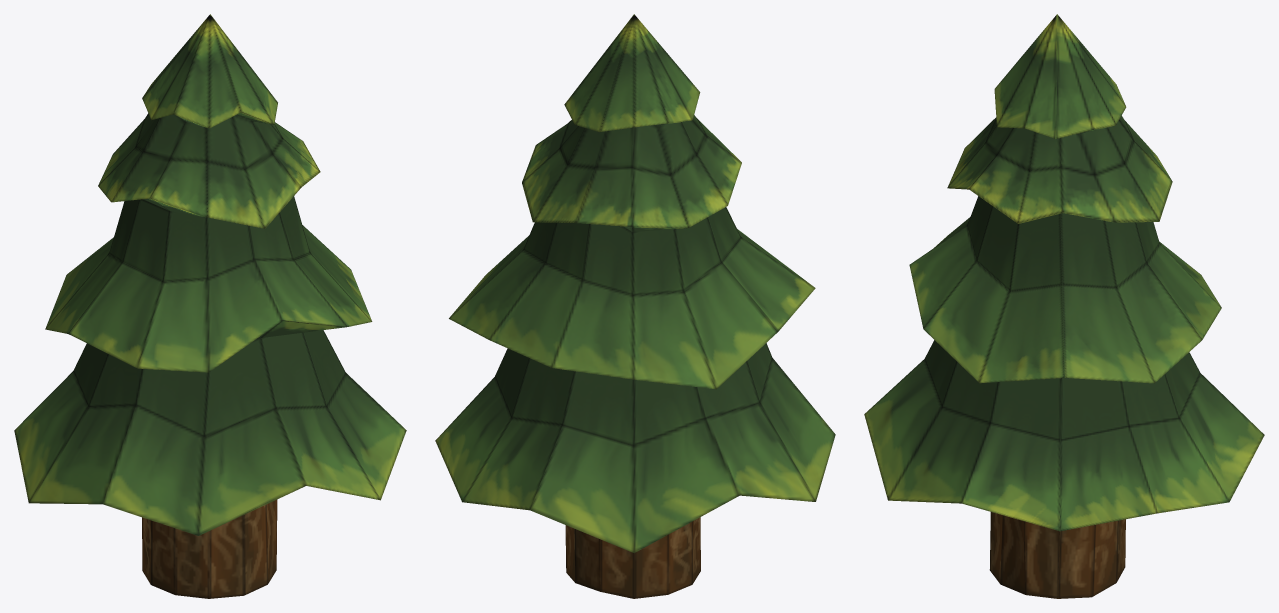
The model's file is Tanne_Spitz.fbx.
3 renders of one model, left to right at view 1: azimuth 30°, elevation 25°; view 2: azimuth 150°, elevation 25°; view 3: azimuth 270°, elevation 25°, orthographic.
Visible parts, largest first — view 1: Cylinder.001; view 2: Cylinder.001; view 3: Cylinder.001.
Part boxes in pixels (box(x1,y1,x2,y2)): Cylinder.001: box(14, 14, 406, 598); Cylinder.001: box(435, 14, 835, 598); Cylinder.001: box(864, 14, 1264, 598).
Bounding box in the file's own units: 71.33 × 109 × 70.99.
